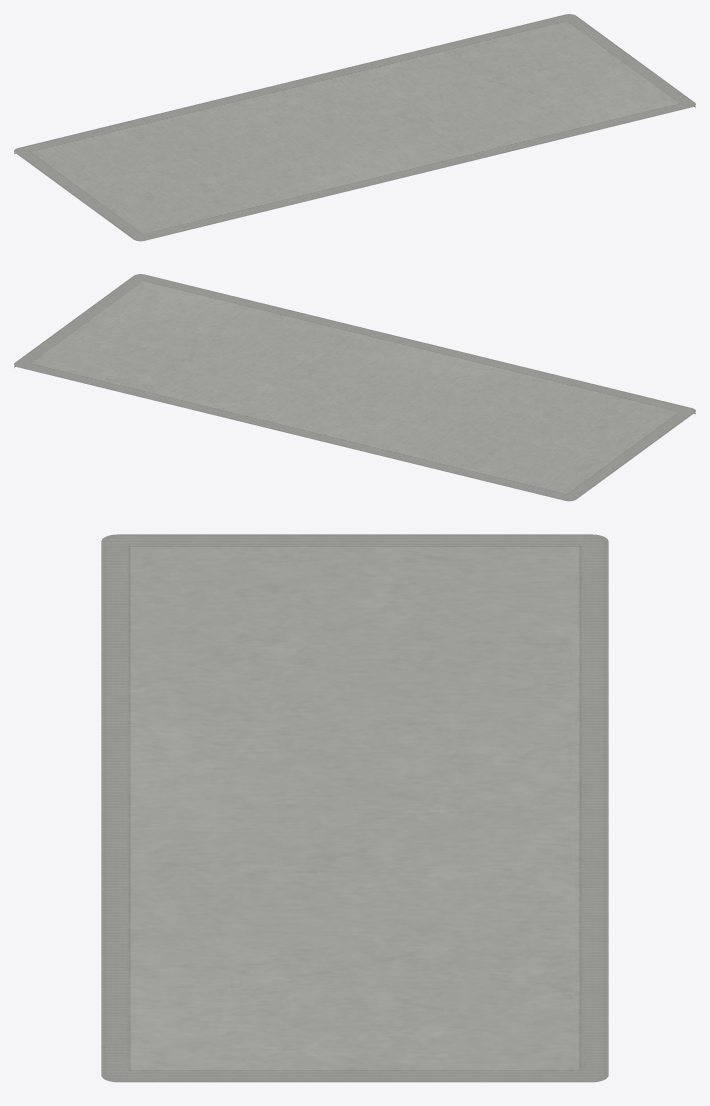
File: gray_kitchen_r90.glb
The picture shows the model from 3 angles, top to bottom: view 1: azimuth 30°, elevation 25°; view 2: azimuth 150°, elevation 25°; view 3: azimuth 270°, elevation 25°; orthographic projection. The views are drawn at different scales.
Parts seen in each view (by area): view 1: reliv_gray_kitchen_r90; view 2: reliv_gray_kitchen_r90; view 3: reliv_gray_kitchen_r90.
Part boxes in pixels (x1,y1,x2,y2): reliv_gray_kitchen_r90: (14, 14, 695, 241); reliv_gray_kitchen_r90: (14, 274, 695, 501); reliv_gray_kitchen_r90: (101, 534, 608, 1082).
Bounding box in the file's own units: 1.15 × 0.009 × 0.45.
Materials: 2 (1 with a texture image).
